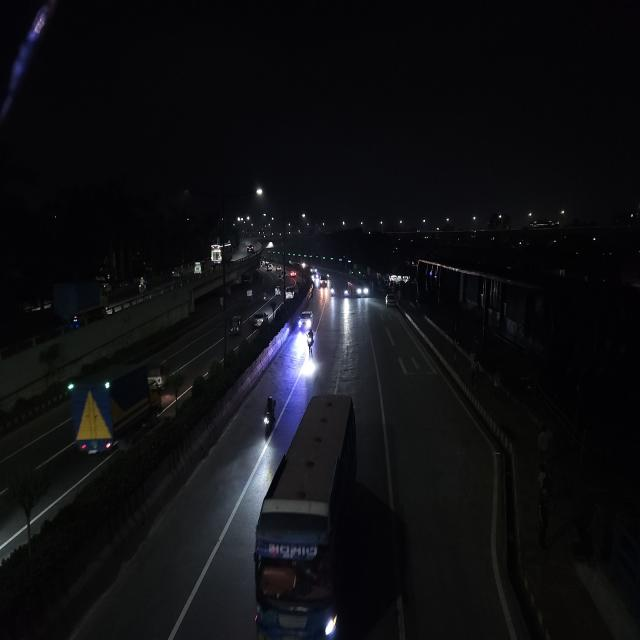bus: (250, 390, 361, 637), (349, 270, 370, 299), (212, 243, 232, 264)
car: (298, 307, 313, 331), (252, 310, 267, 330), (384, 291, 399, 310), (244, 282, 255, 303), (319, 273, 329, 289), (286, 284, 294, 300), (247, 244, 254, 253)
cng: (149, 358, 170, 391), (230, 312, 244, 336), (192, 261, 204, 275), (274, 286, 282, 298)
motorcycle: (260, 393, 278, 443), (306, 327, 315, 354), (328, 284, 336, 298)
truck: (66, 362, 164, 461), (52, 276, 114, 327)
